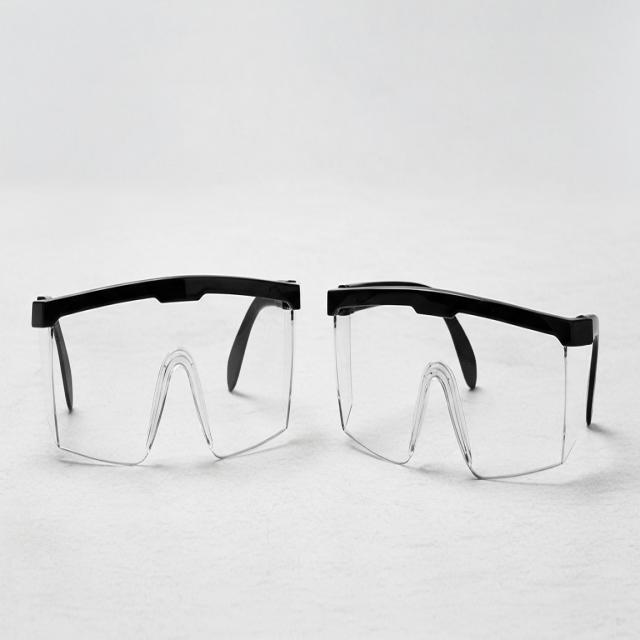oculos-epi: (326, 281, 599, 478), (32, 275, 300, 464)
